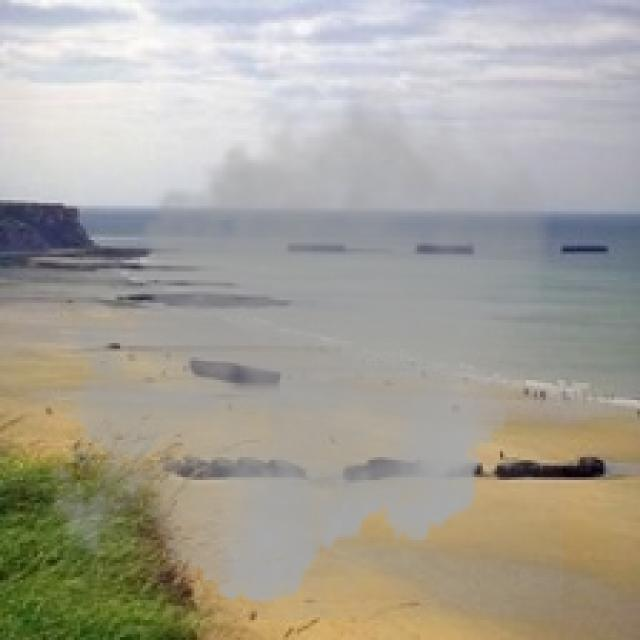smoke: (34, 66, 563, 620)
